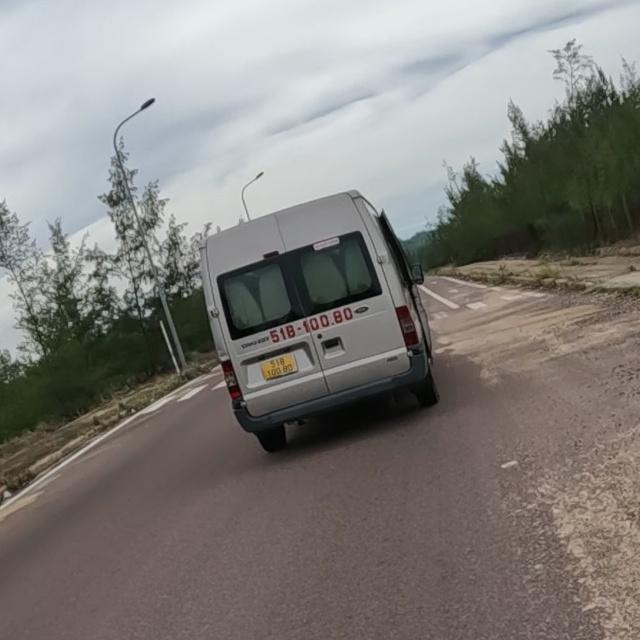license-plate: (259, 352, 299, 380)
